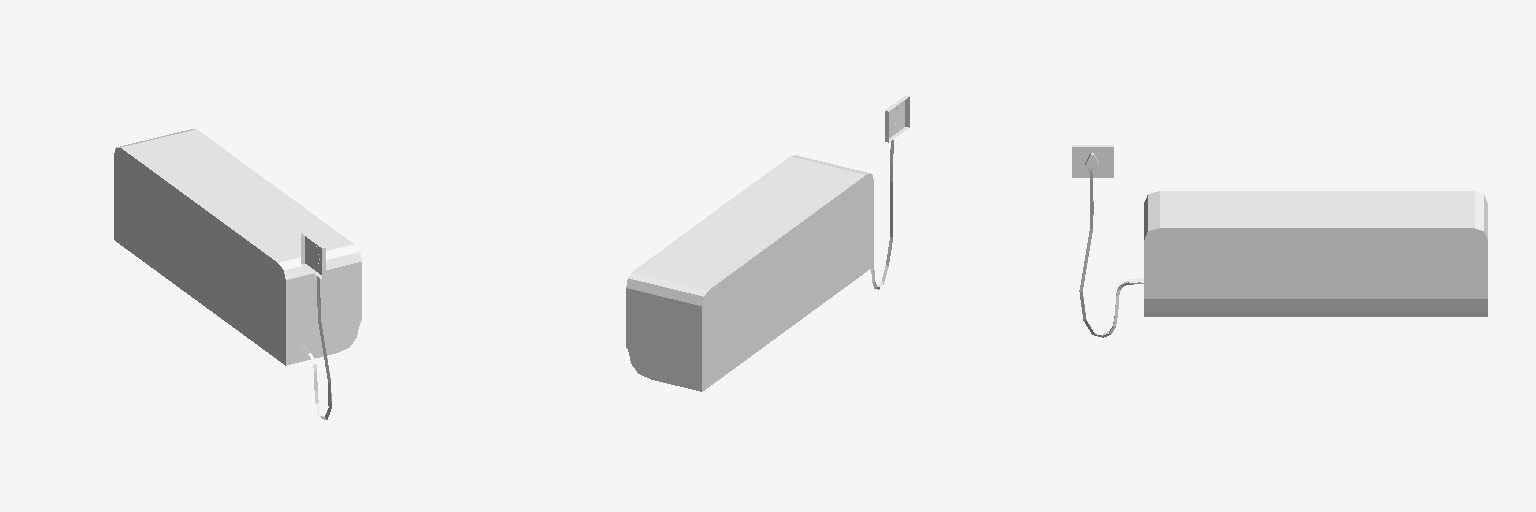
Rendered from airconditioner.obj.
3 views of the same model, side by side, from view 1: azimuth 30°, elevation 25°; view 2: azimuth 150°, elevation 25°; view 3: azimuth 270°, elevation 25° (orthographic).
Visible parts, largest first — view 1: aws_AirconditionerA_01_visualMesh; view 2: aws_AirconditionerA_01_visualMesh; view 3: aws_AirconditionerA_01_visualMesh.
Part boxes in pixels (bbox=[...]): aws_AirconditionerA_01_visualMesh: bbox=[114, 129, 361, 419]; aws_AirconditionerA_01_visualMesh: bbox=[626, 95, 909, 391]; aws_AirconditionerA_01_visualMesh: bbox=[1072, 145, 1487, 337].
Size of the model in its own units: 0.2054 by 0.4773 by 0.9676.